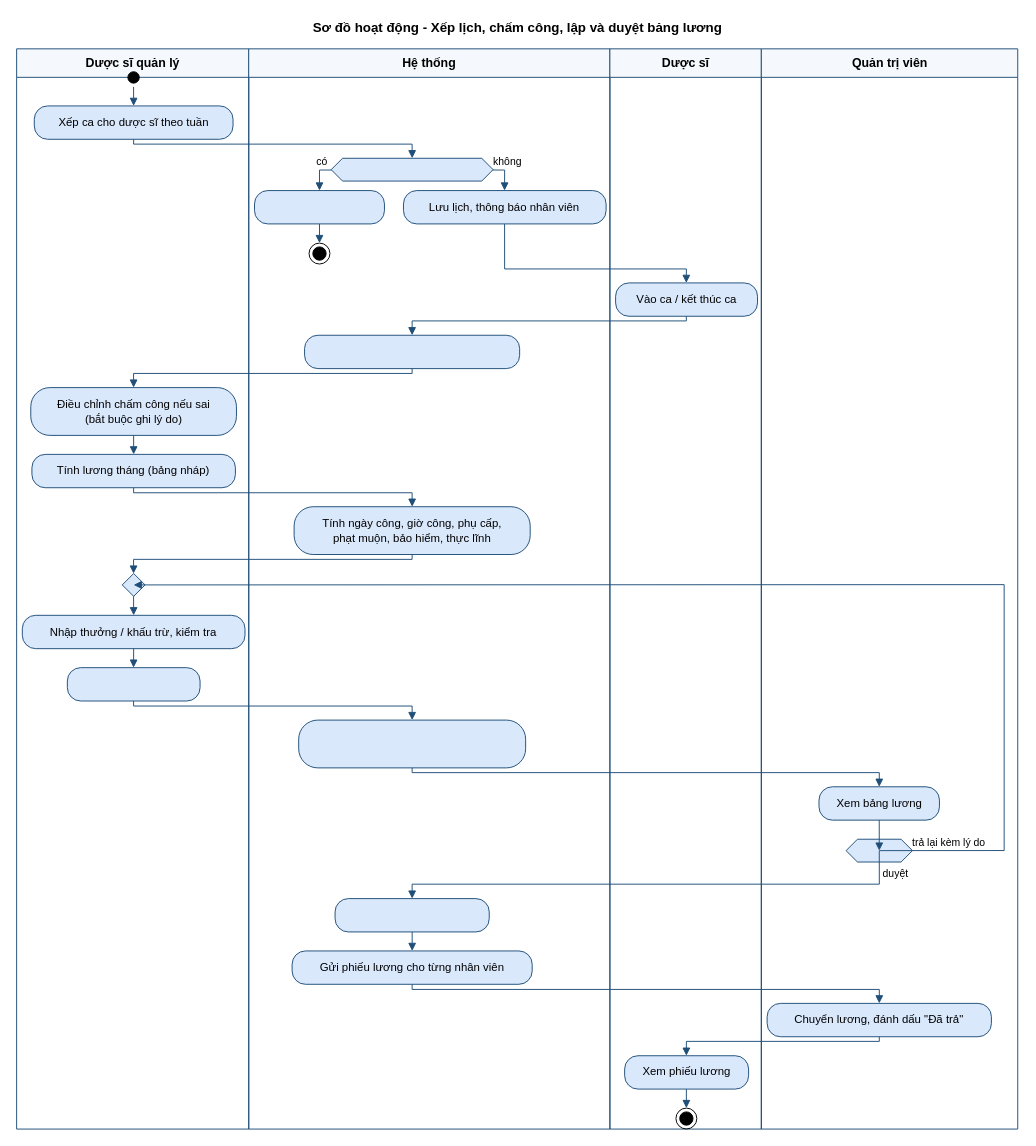
Some shapes in this 1036 by 1146 pixel diagram are drawn without their labels. Each missing label, with the centre of its shape:
Báo lỗi, không lưu: (319,207)
Duyệt?: (878,850)
Ghi giờ vào/ra, tính muộn, vắng: (412,351)
Khóa sửa, trạng thái "Chờ duyệt", thông báo admin: (412,743)
Trình admin duyệt: (133,684)
Trùng giờ với ca khác?: (411,169)
Trạng thái "Đã duyệt": (411,915)
